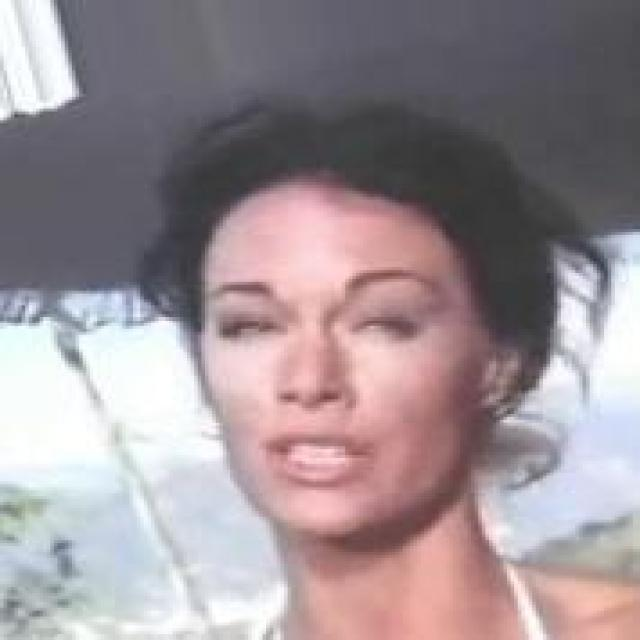nomask: (111, 91, 612, 546)
